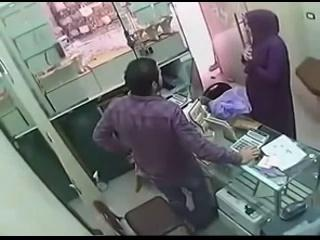Normal: (92, 57, 262, 230), (240, 10, 297, 140), (93, 196, 194, 236)
